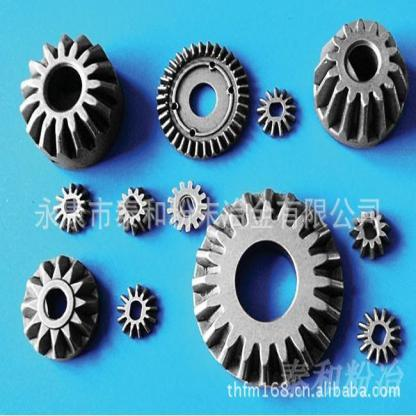FOD: (190, 188, 346, 393), (19, 32, 119, 173), (312, 15, 411, 152), (154, 39, 252, 162), (20, 251, 100, 364), (355, 305, 403, 368), (115, 283, 161, 341), (348, 207, 392, 264), (166, 178, 208, 237), (256, 87, 298, 142), (51, 182, 92, 237), (116, 186, 154, 239)
